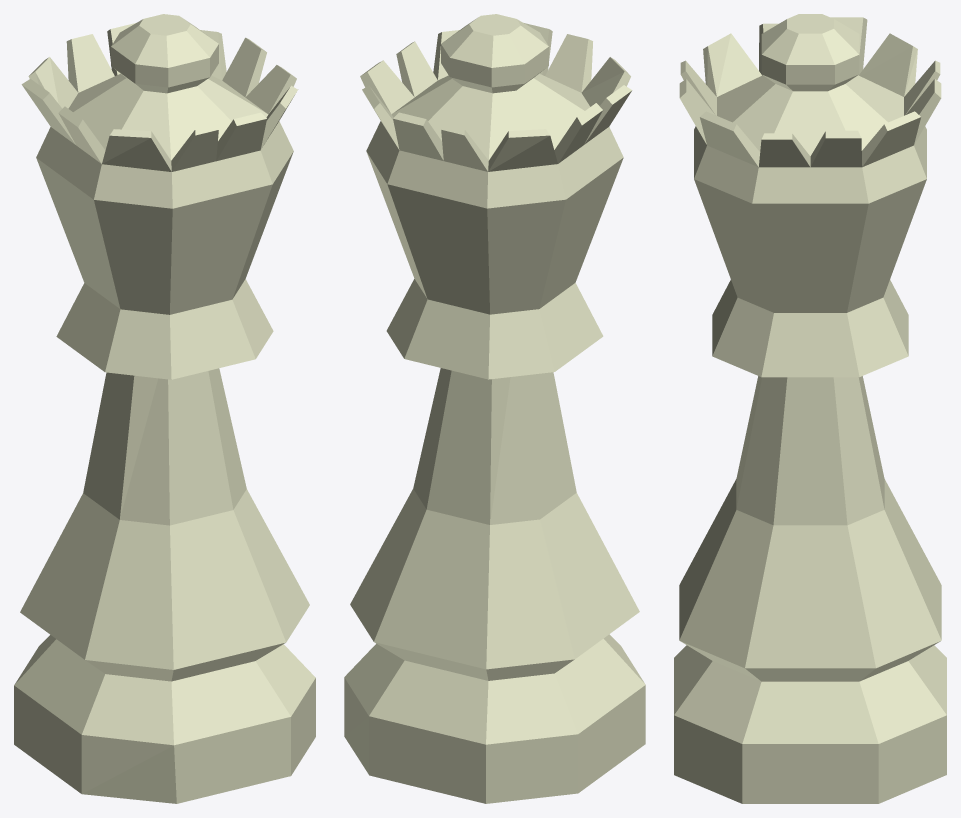
The model's file is Queen.fbx.
The picture shows the model from 3 angles, left to right: view 1: azimuth 30°, elevation 25°; view 2: azimuth 150°, elevation 25°; view 3: azimuth 270°, elevation 25°; orthographic projection.
Parts seen in each view (by area): view 1: Queen; view 2: Queen; view 3: Queen.
Part boxes in pixels (x1=…): Queen: x1=14, y1=14, x2=315, y2=803; Queen: x1=344, y1=14, x2=645, y2=803; Queen: x1=674, y1=14, x2=946, y2=803.
Size of the model in its own units: 1 by 2.92 by 1.
